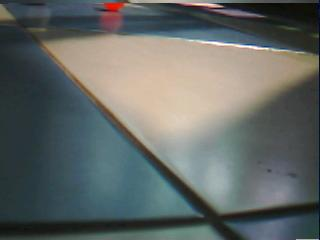oball: (103, 4, 126, 11)
